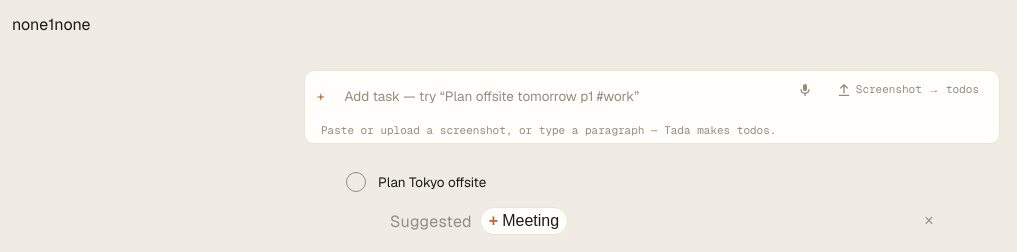
Test: TodoListView — enrichment chip acceptance on the row › accepting an action chip patches the todo AND selects it (opens review card)
This screenshot has width=1017, height=252.
Click the button with aria-label "add meeting".
click(524, 221)  # box [480,207,568,235]
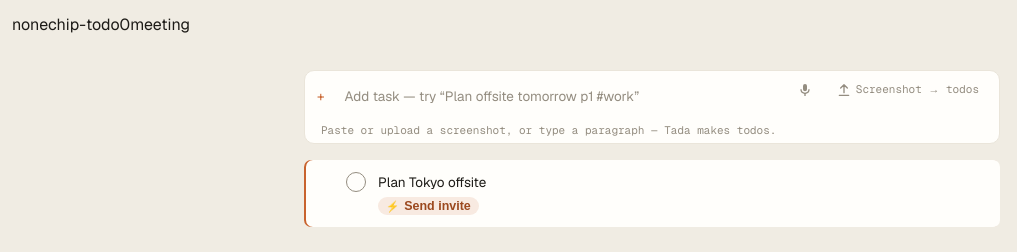
Now the text with test id "action-type" reads "meeting", box [130,14,190,35]
Now the text with test id "selected-id" reads "chip-todo", box [48,14,120,35]
